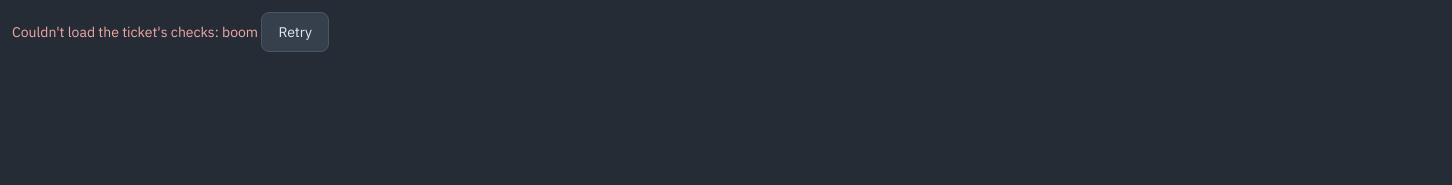
Scenario: ticket Checks list (BOS-2371) › says when it couldn't load, and Retry loads again
This screenshot has width=1452, height=185.
Click the button "Retry": (295, 32) [261,12,329,52]
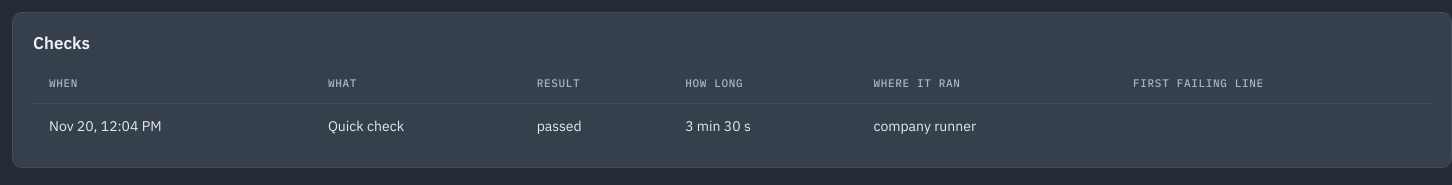
Result: the number of rows with test id "ticket-check-row" is 1 at [33,104,1431,149]
